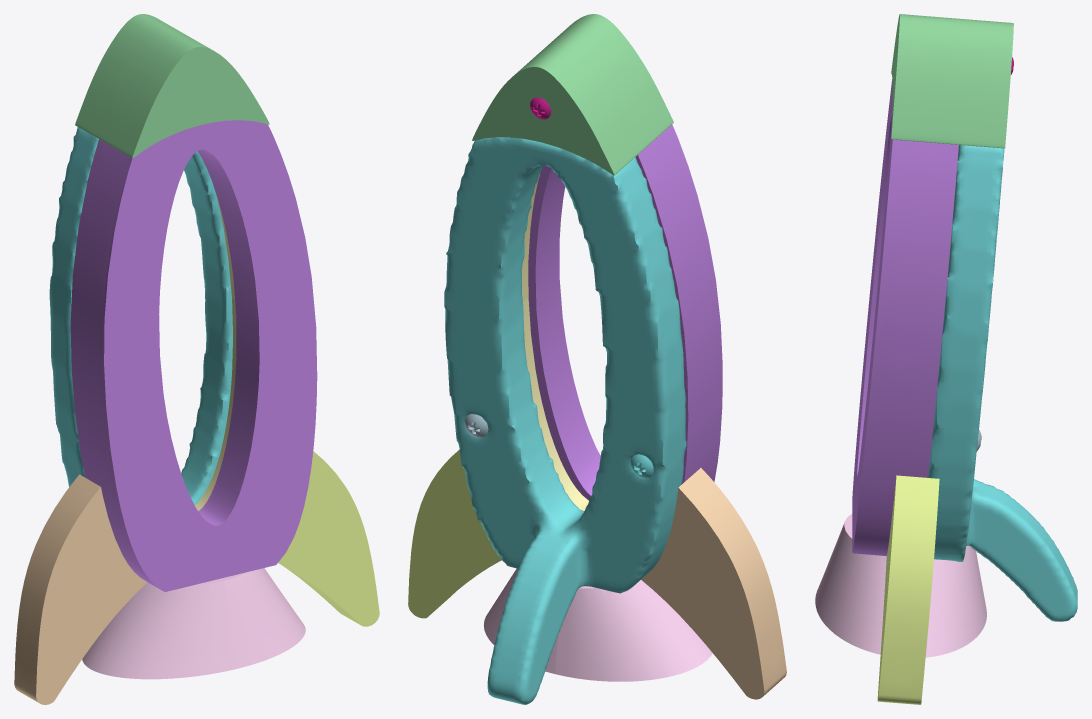
3 views of the same model, side by side, from view 1: azimuth 30°, elevation 25°; view 2: azimuth 150°, elevation 25°; view 3: azimuth 270°, elevation 25° (orthographic). The views are drawn at different scales.
Visible parts, largest first — view 1: split_parent_4, PATA TRASERA_Plastic - Translucent Matte (Blue)_0, split_parent_1, PATA IZQ_Plastic - Translucent Matte (Blue)_0, cabeza azul_Plastic - Translucent Matte (Blue)_0, PATA DERECHA_Plastic - Translucent Matte (Blue)_0, split_parent_10; view 2: PATA TRASERA_Plastic - Translucent Matte (Blue)_0, split_parent_4, cabeza azul_Plastic - Translucent Matte (Blue)_0, PATA IZQ_Plastic - Translucent Matte (Blue)_0, split_parent_1, PATA DERECHA_Plastic - Translucent Matte (Blue)_0, split_parent_10; view 3: split_parent_4, PATA TRASERA_Plastic - Translucent Matte (Blue)_0, cabeza azul_Plastic - Translucent Matte (Blue)_0, split_parent_1, PATA DERECHA_Plastic - Translucent Matte (Blue)_0.
Part boxes in pixels (x1,y1,x2,y2): split_parent_4: [70, 120, 317, 591]; PATA TRASERA_Plastic - Translucent Matte (Blue)_0: [49, 127, 232, 504]; split_parent_1: [82, 568, 305, 679]; PATA IZQ_Plastic - Translucent Matte (Blue)_0: [14, 474, 147, 704]; cabeza azul_Plastic - Translucent Matte (Blue)_0: [75, 14, 269, 158]; PATA DERECHA_Plastic - Translucent Matte (Blue)_0: [278, 451, 379, 626]; split_parent_10: [195, 191, 236, 510]; PATA TRASERA_Plastic - Translucent Matte (Blue)_0: [444, 137, 686, 704]; split_parent_4: [528, 124, 722, 500]; cabeza azul_Plastic - Translucent Matte (Blue)_0: [472, 14, 673, 175]; PATA IZQ_Plastic - Translucent Matte (Blue)_0: [641, 468, 786, 699]; split_parent_1: [483, 568, 712, 681]; PATA DERECHA_Plastic - Translucent Matte (Blue)_0: [408, 449, 501, 618]; split_parent_10: [522, 173, 588, 510]; split_parent_4: [852, 79, 958, 555]; PATA TRASERA_Plastic - Translucent Matte (Blue)_0: [928, 145, 1077, 621]; cabeza azul_Plastic - Translucent Matte (Blue)_0: [891, 14, 1013, 148]; split_parent_1: [815, 514, 986, 657]; PATA DERECHA_Plastic - Translucent Matte (Blue)_0: [877, 475, 939, 704].
Bounding box in the file's own units: 0.5859 × 1 × 0.3904.
